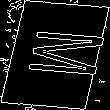M_E: (6, 28, 104, 82)
